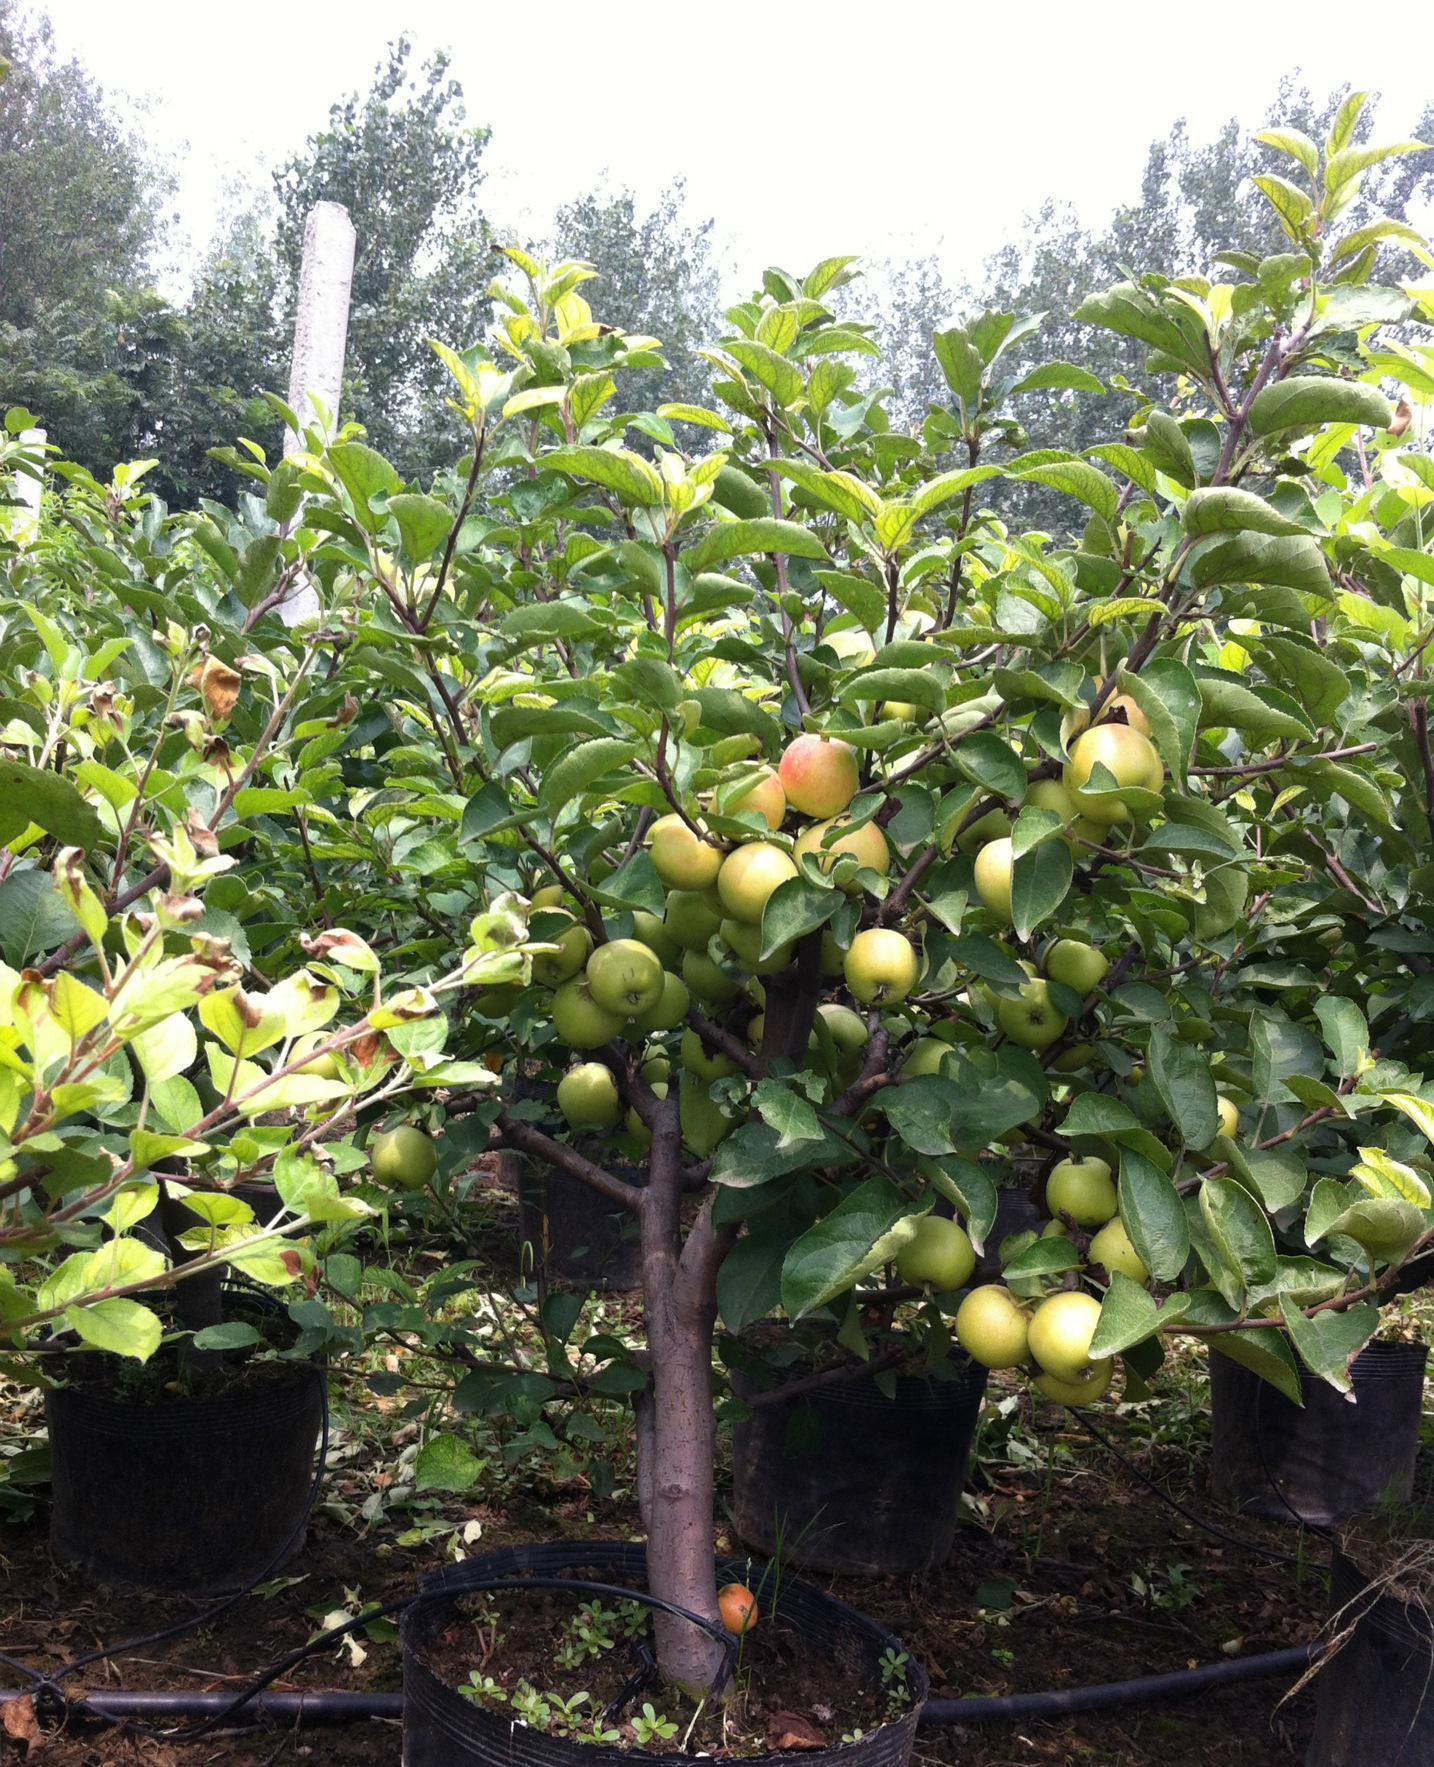apple: (1061, 726, 1160, 805), (1032, 1293, 1114, 1385), (713, 844, 797, 927), (777, 734, 860, 818), (888, 1218, 972, 1295), (953, 1289, 1029, 1371), (991, 979, 1070, 1055), (585, 939, 660, 1018), (841, 930, 917, 1006), (817, 821, 891, 895), (1043, 1156, 1119, 1224), (650, 812, 721, 882), (718, 764, 789, 834), (366, 1126, 435, 1194), (973, 838, 1024, 924), (555, 986, 617, 1055), (555, 1065, 617, 1134), (1040, 941, 1105, 1002), (1092, 1223, 1155, 1278)
